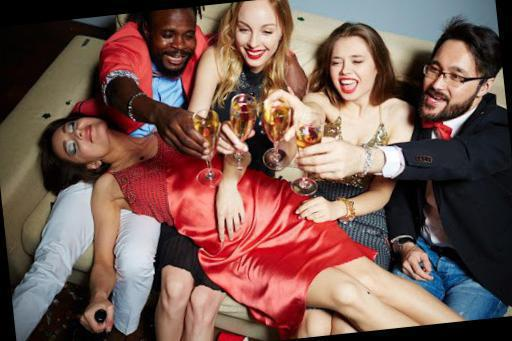Drunk: (424, 45, 478, 120), (328, 39, 375, 103), (235, 6, 284, 66), (153, 12, 196, 76), (52, 119, 108, 161)
